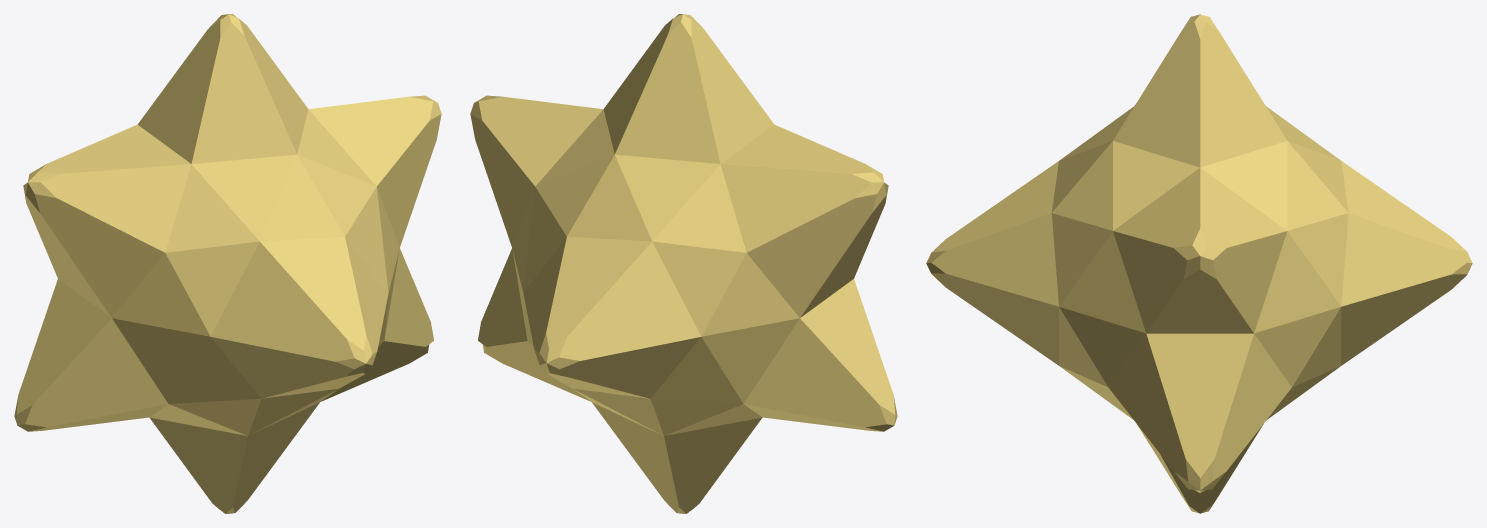
Rendered from stur.fbx.
The picture shows the model from 3 angles, left to right: view 1: azimuth 30°, elevation 25°; view 2: azimuth 150°, elevation 25°; view 3: azimuth 270°, elevation 25°; orthographic projection.
Parts seen in each view (by area): view 1: Icosphere; view 2: Icosphere; view 3: Icosphere.
Boxes of the visible parts, bbox=[...] form: Icosphere: bbox=[14, 14, 441, 513]; Icosphere: bbox=[470, 14, 897, 513]; Icosphere: bbox=[926, 14, 1472, 513].
Bounding box in the file's own units: 279 × 316 × 313.
